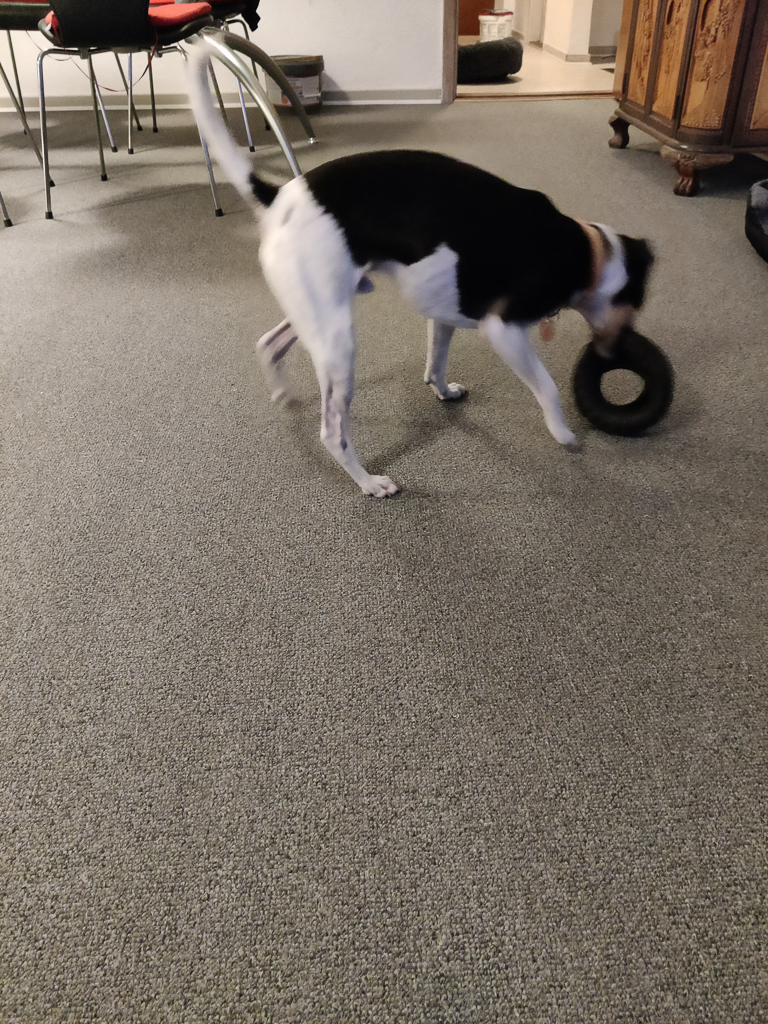Dog: (156, 19, 679, 516)
